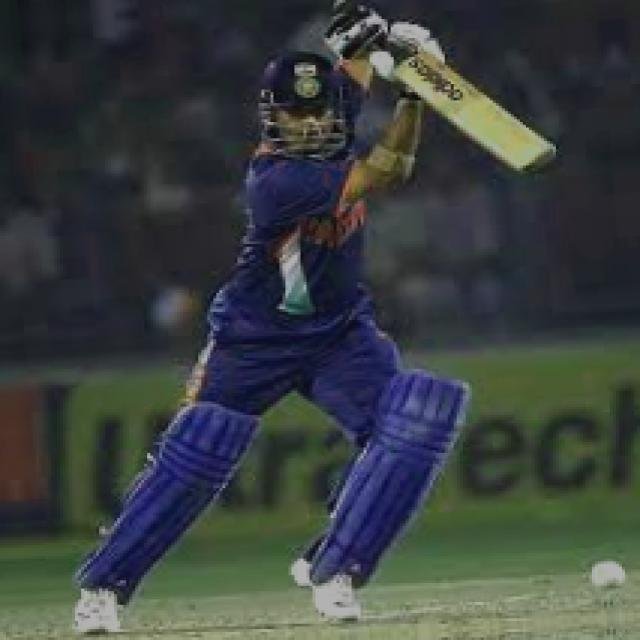bat: (404, 50, 574, 197)
toe: (519, 156, 561, 174)
